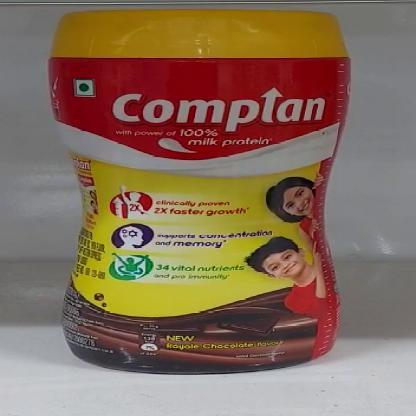Complan Royal Chocolate: (54, 9, 356, 374)
